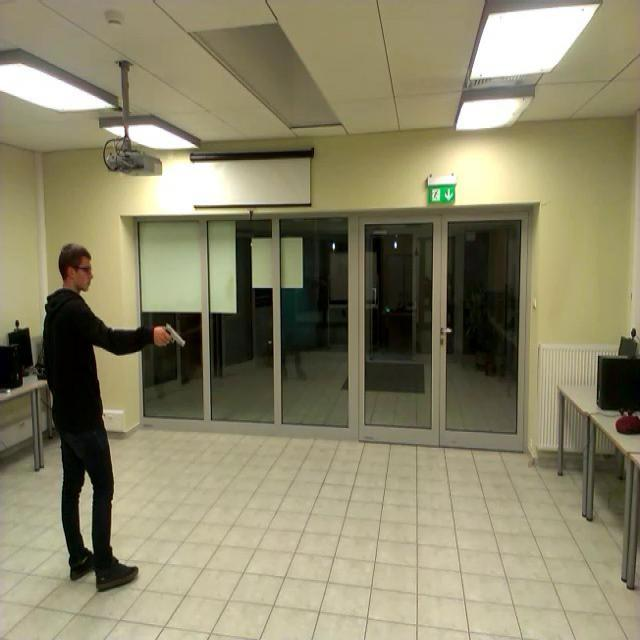weapon: (164, 324, 186, 347)
